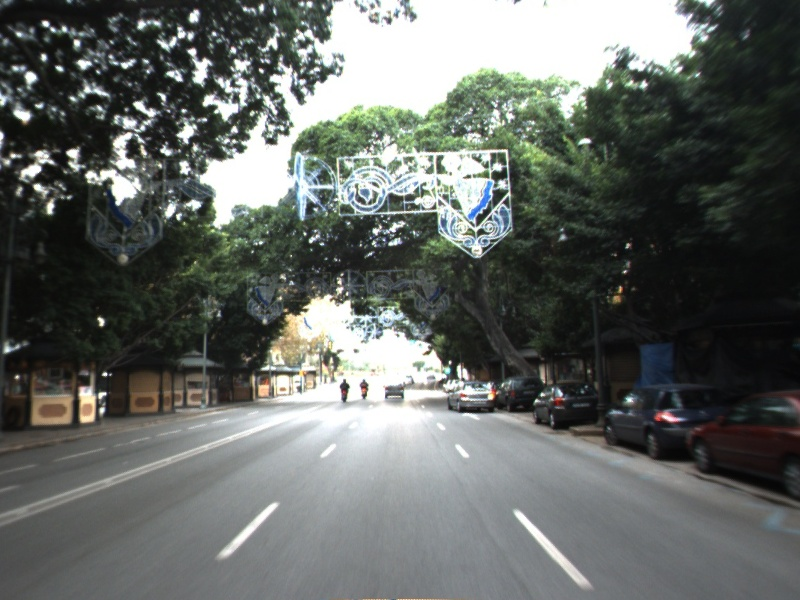STRAIGHT: (459, 410, 484, 422)
